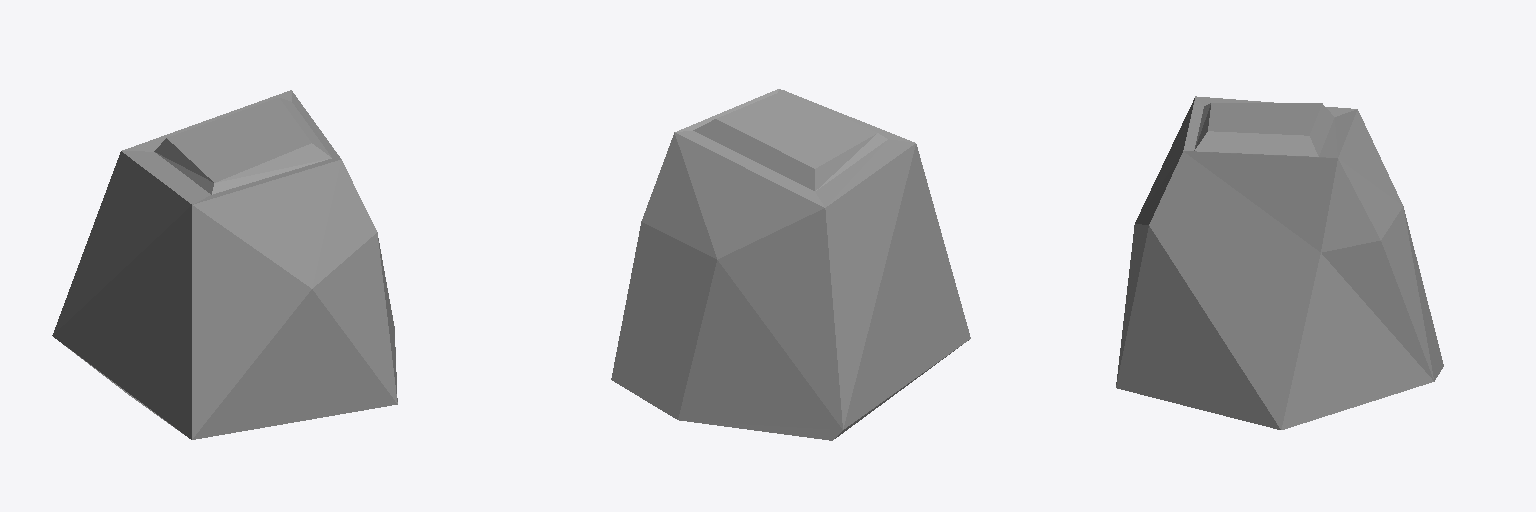
File: Low_Poly_Cuboid_Rock_002.obj
3 views of the same model, side by side, from view 1: azimuth 30°, elevation 25°; view 2: azimuth 150°, elevation 25°; view 3: azimuth 270°, elevation 25° (orthographic).
Visible parts, largest first — view 1: Low_Poly_Cuboid_Rock_002_Cube; view 2: Low_Poly_Cuboid_Rock_002_Cube; view 3: Low_Poly_Cuboid_Rock_002_Cube.
Boxes of the visible parts, box(x1,y1,x2,y2) form: Low_Poly_Cuboid_Rock_002_Cube: box(52, 90, 397, 439); Low_Poly_Cuboid_Rock_002_Cube: box(611, 89, 970, 440); Low_Poly_Cuboid_Rock_002_Cube: box(1116, 96, 1443, 429).
Size of the model in its own units: 1.56 by 1.49 by 1.59.